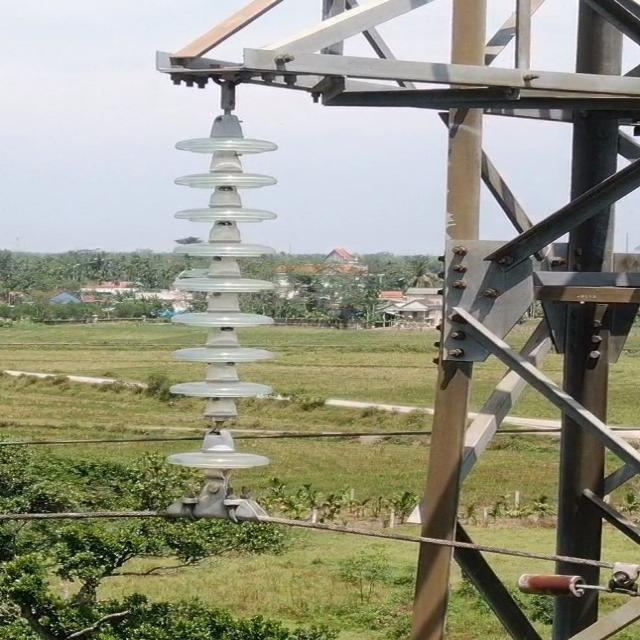杆塔: (144, 0, 639, 640)
正常绝缘子: (152, 90, 269, 515)
绝缘子破损: (202, 405, 239, 440)
